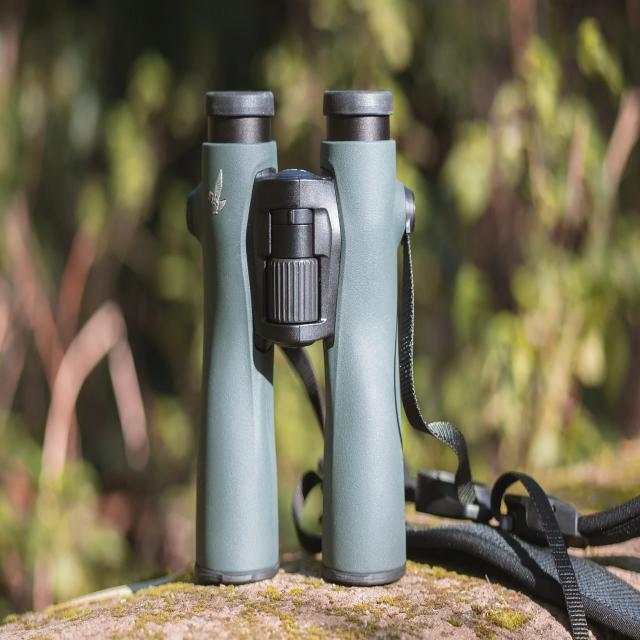Binocular: (185, 71, 422, 600)
